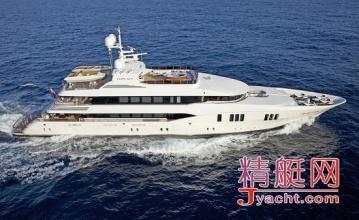yacht: (13, 32, 348, 138)
